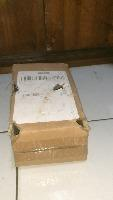damaged package: (7, 117, 22, 145), (72, 116, 90, 132), (9, 79, 19, 95)
undamaged: (4, 60, 91, 172)
